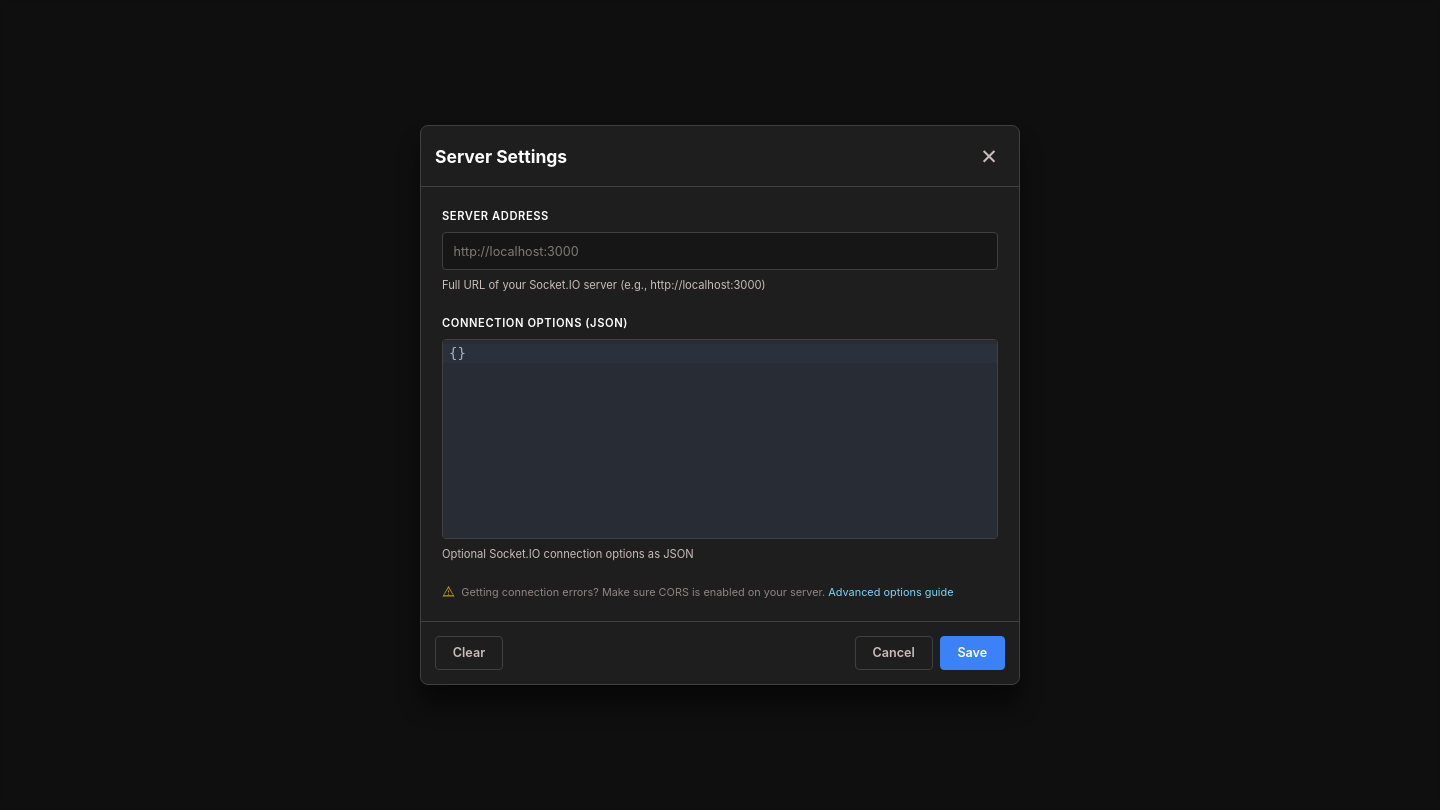
Test: ServerAddressModal › shows error when address is empty
The width and height of the screenshot is (1440, 810).
Clear the field with placeholder "http://localhost:3000" at (720, 251), box [442,232,998,270]
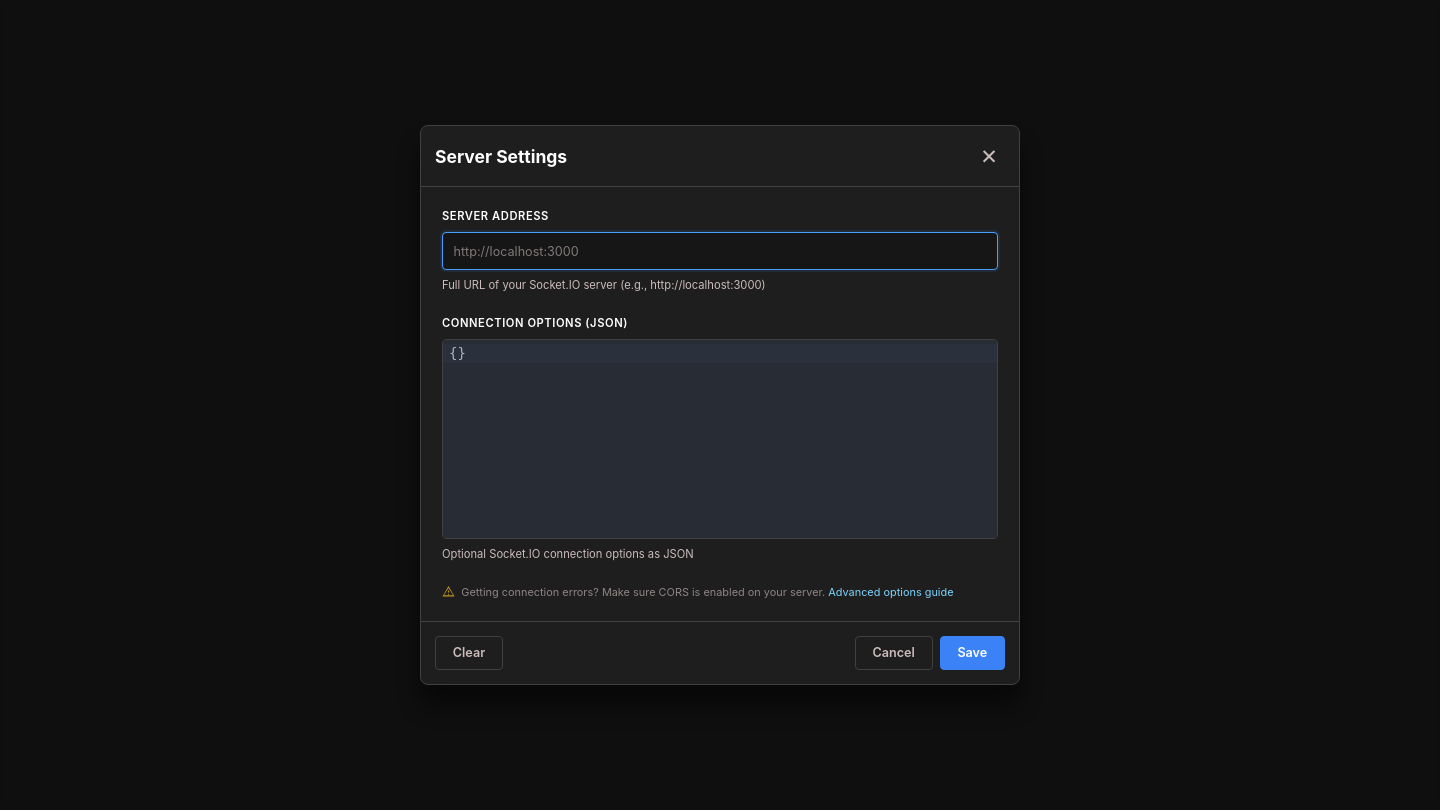
Click the button "Save" at (972, 653), box [940,636,1005,670]
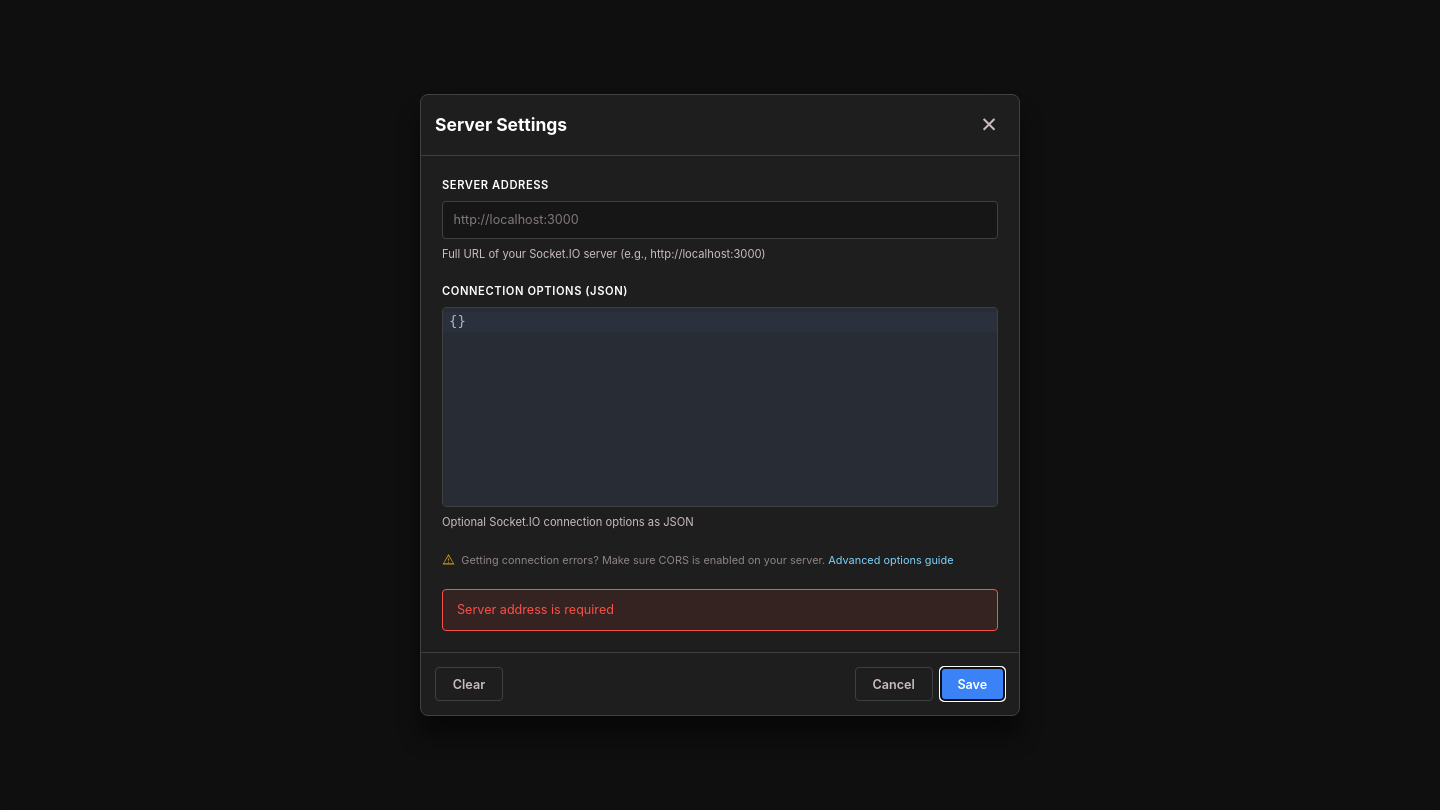
Expected: the text "Server address is required" is shown, [442,589,998,631]
